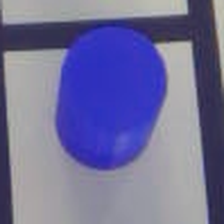cylinder: (39, 15, 182, 176)
